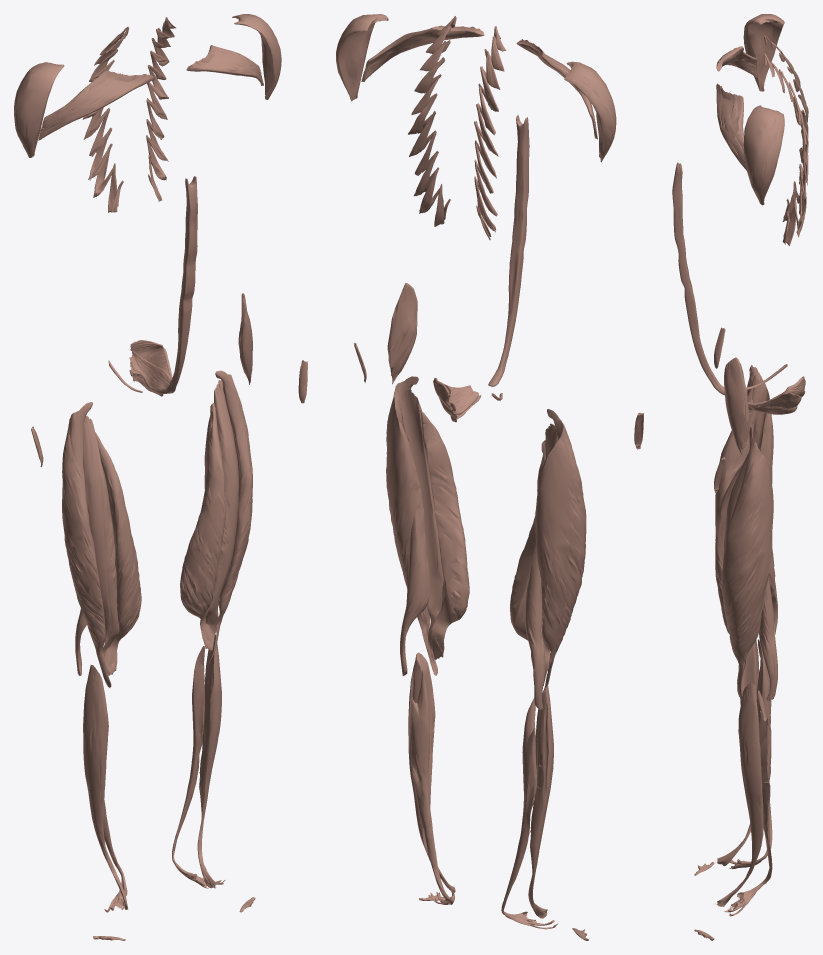
File: other-18.glb
The picture shows the model from 3 angles, left to right: view 1: azimuth 30°, elevation 25°; view 2: azimuth 150°, elevation 25°; view 3: azimuth 270°, elevation 25°; orthographic projection. The views are drawn at different scales.
Parts seen in each view (by area): view 1: FJ1442, FJ1443M, FJ1441, FJ1443, FJ1442M, FJ1439, FJ1441M, FJ1439M, FJ1447, FJ1448, FJ1467, FJ1440M (+9 smaller); view 2: FJ1442, FJ1443M, FJ1442M, FJ1441M, FJ1448, FJ1463M, FJ1440M, FJ1439, FJ1463, FJ1444M, FJ1440, FJ1467M (+7 smaller); view 3: FJ1442M, FJ1439M, FJ1467M, FJ1448, FJ1440M, FJ1438M, FJ1467, FJ1447M, FJ1444M, FJ1442, FJ1463M, FJ1443 (+11 smaller).
Part boxes in pixels (x1,y1,x2,y2): FJ1442: [62, 402, 111, 687]; FJ1443M: [180, 403, 225, 650]; FJ1441: [83, 416, 119, 674]; FJ1443: [95, 432, 141, 675]; FJ1442M: [204, 370, 252, 664]; FJ1439: [83, 665, 128, 909]; FJ1441M: [205, 380, 238, 650]; FJ1439M: [197, 634, 221, 888]; FJ1447: [38, 70, 155, 140]; FJ1448: [158, 176, 197, 393]; FJ1467: [14, 62, 64, 157]; FJ1440M: [172, 646, 225, 888]; FJ1442: [535, 409, 586, 690]; FJ1443M: [419, 409, 469, 659]; FJ1442M: [386, 376, 437, 675]; FJ1441M: [398, 389, 443, 658]; FJ1448: [488, 115, 529, 386]; FJ1463M: [408, 16, 455, 226]; FJ1440M: [411, 670, 454, 904]; FJ1439: [528, 684, 553, 918]; FJ1463: [474, 26, 506, 239]; FJ1444M: [400, 472, 429, 675]; FJ1440: [501, 698, 558, 929]; FJ1467M: [336, 14, 388, 101]; FJ1442M: [721, 426, 773, 698]; FJ1439M: [715, 682, 763, 906]; FJ1467M: [743, 105, 784, 205]; FJ1448: [672, 162, 724, 395]; FJ1440M: [724, 690, 772, 916]; FJ1438M: [724, 357, 749, 455]; FJ1467: [743, 14, 784, 91]; FJ1447M: [716, 83, 746, 170]; FJ1444M: [759, 576, 777, 700]; FJ1442: [747, 365, 773, 483]; FJ1463M: [764, 53, 808, 245]; FJ1443: [715, 397, 752, 532].
Size of the model in its own units: 0.4764 by 1.45 by 0.2079.
